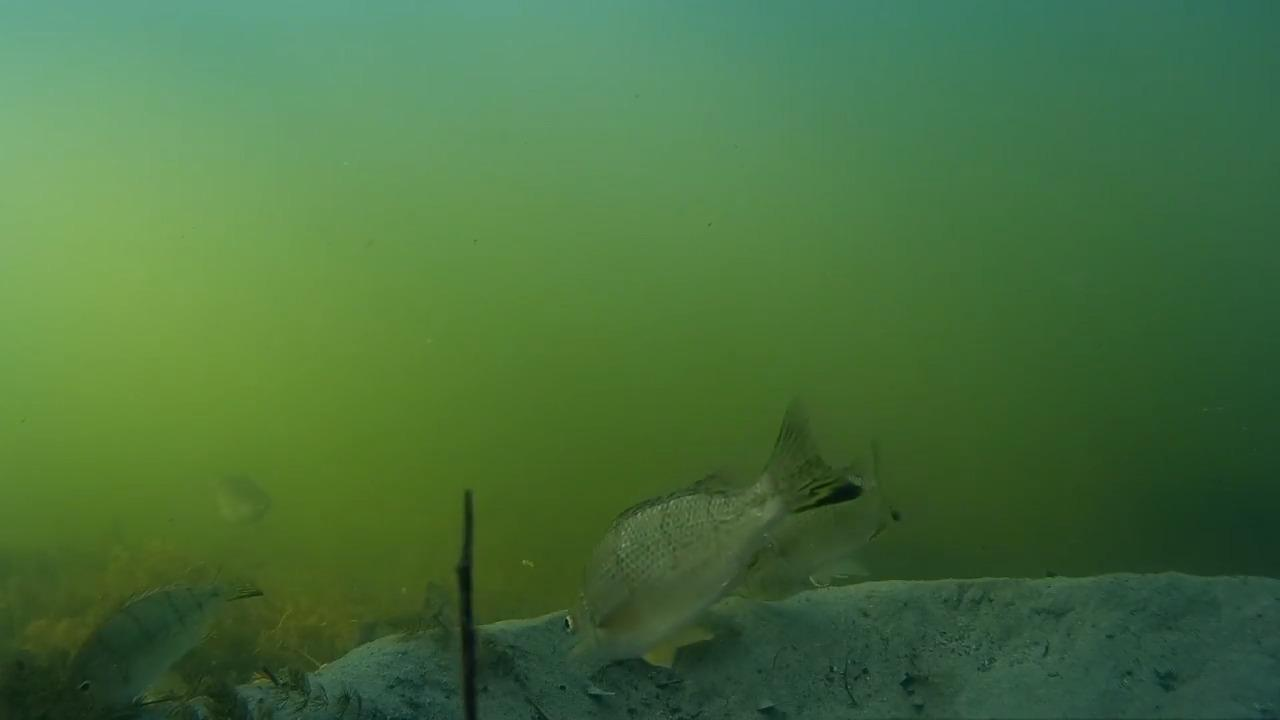Tilapia: (568, 414, 893, 660), (17, 574, 281, 713), (734, 442, 931, 608), (171, 438, 274, 534)
